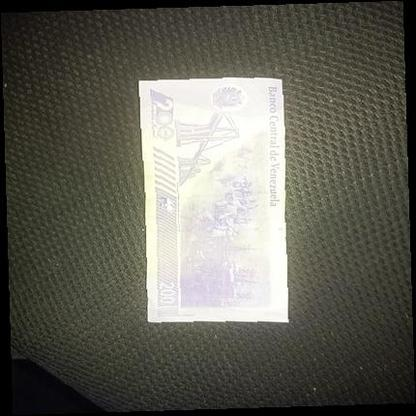two_hundred-back-vef: (138, 77, 288, 322)
